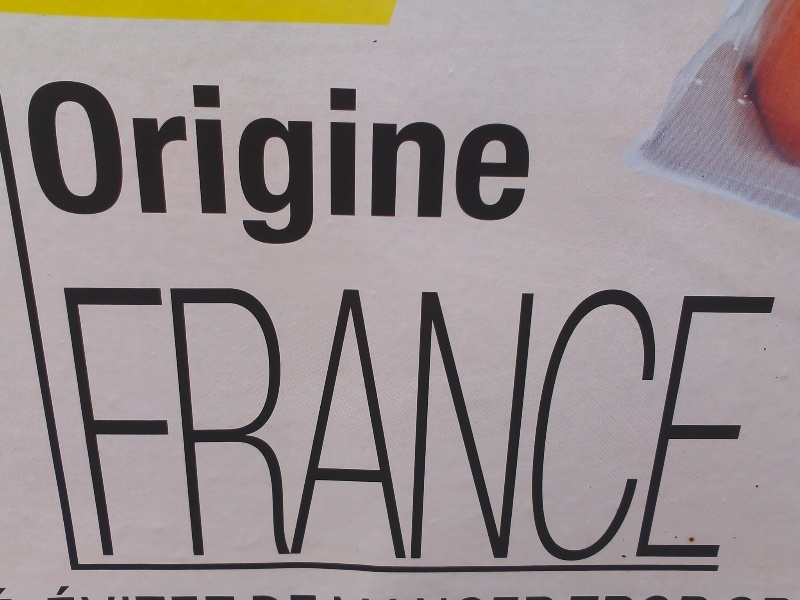text: (65, 283, 80, 564), (81, 283, 96, 564), (97, 283, 112, 564), (113, 283, 128, 564), (129, 283, 144, 564), (145, 283, 160, 564), (161, 283, 176, 564), (177, 283, 192, 564), (193, 283, 208, 564), (209, 283, 224, 564), (225, 283, 240, 564), (241, 283, 256, 564), (257, 283, 272, 564), (273, 283, 288, 564), (289, 283, 304, 564), (305, 283, 320, 564), (321, 283, 336, 564), (337, 283, 352, 564), (353, 283, 368, 564), (369, 283, 384, 564), (385, 283, 400, 564), (401, 283, 416, 564), (417, 283, 432, 564), (433, 283, 448, 564), (449, 283, 464, 564), (465, 283, 480, 564), (481, 283, 496, 564), (497, 283, 512, 564), (513, 283, 528, 564), (529, 283, 544, 564), (545, 283, 560, 564), (561, 283, 576, 564), (577, 283, 592, 564), (593, 283, 608, 564), (609, 283, 624, 564), (625, 283, 640, 564), (641, 283, 656, 564), (657, 283, 672, 564), (673, 283, 688, 564), (689, 283, 704, 564), (705, 283, 720, 564), (721, 283, 736, 564), (737, 283, 752, 564), (753, 283, 768, 564), (769, 283, 783, 564), (17, 76, 32, 251), (33, 76, 48, 251), (49, 76, 64, 251), (65, 76, 80, 251), (81, 76, 96, 251), (97, 76, 112, 251), (113, 76, 128, 251), (129, 76, 144, 251), (145, 76, 160, 251), (161, 76, 176, 251), (177, 76, 192, 251), (193, 76, 208, 251), (209, 76, 224, 251), (225, 76, 240, 251), (241, 76, 256, 251), (257, 76, 272, 251), (273, 76, 288, 251), (289, 76, 304, 251), (305, 76, 320, 251), (321, 76, 336, 251), (337, 76, 352, 251), (353, 76, 368, 251), (369, 76, 384, 251), (385, 76, 400, 251), (401, 76, 416, 251), (417, 76, 432, 251), (433, 76, 448, 251), (449, 76, 464, 251), (465, 76, 480, 251), (481, 76, 496, 251), (497, 76, 512, 251), (513, 76, 528, 251), (57, 283, 64, 564), (529, 76, 538, 251)
